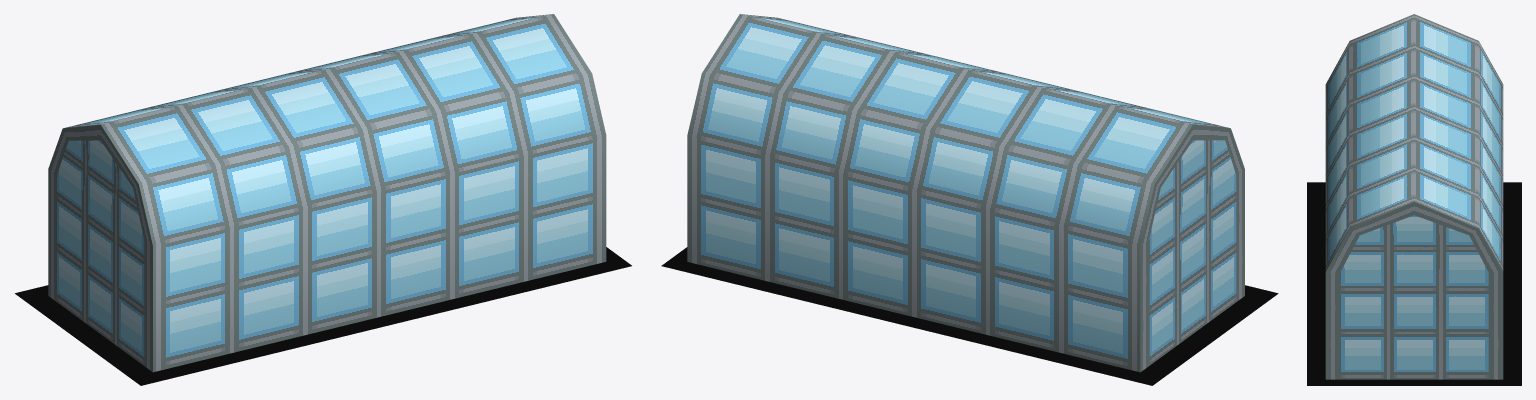
File: c6_bhouse_01.dae
3 views of the same model, side by side, from view 1: azimuth 30°, elevation 25°; view 2: azimuth 150°, elevation 25°; view 3: azimuth 270°, elevation 25° (orthographic). The views are drawn at different scales.
Parts seen in each view (by area): view 1: c6_bhouse_01; view 2: c6_bhouse_01; view 3: c6_bhouse_01.
Boxes of the visible parts, left/top/right/bottom form: c6_bhouse_01: left=15, top=14, right=631, bottom=385; c6_bhouse_01: left=661, top=14, right=1278, bottom=385; c6_bhouse_01: left=1307, top=14, right=1521, bottom=385.
Size of the model in its own units: 130 by 53 by 58.
